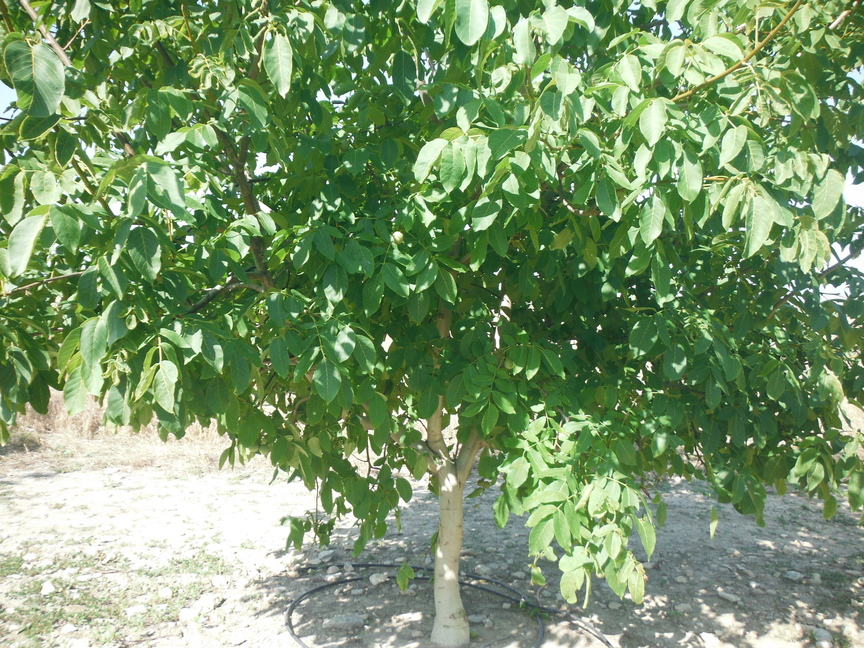walnut: (502, 354, 517, 371), (259, 443, 273, 460), (391, 230, 405, 245), (338, 138, 351, 153), (247, 440, 260, 454), (668, 229, 679, 239), (665, 235, 674, 244), (257, 438, 267, 446), (661, 226, 670, 234)
